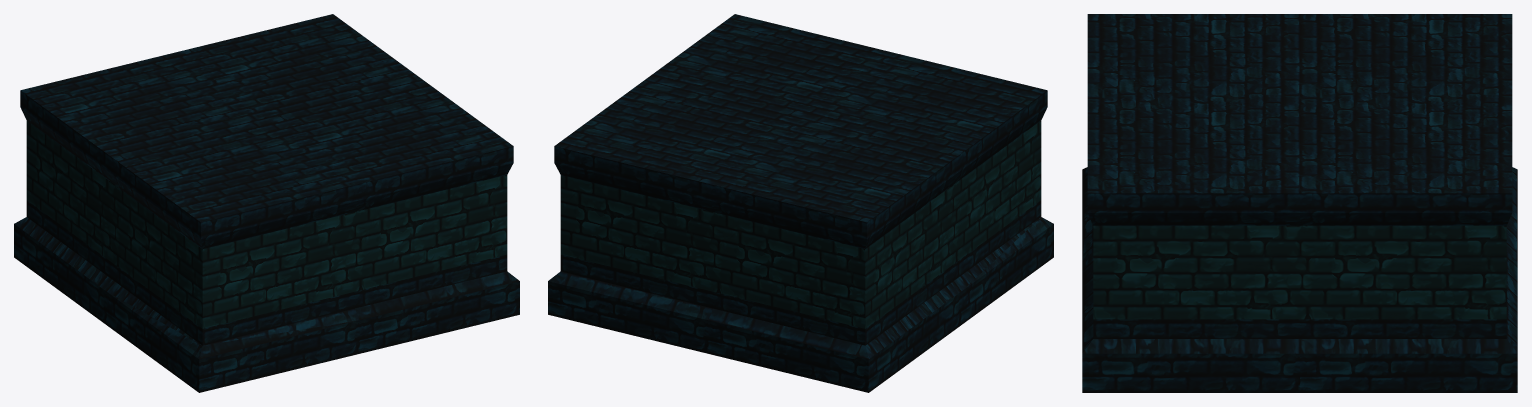
The model's file is dungeon-tile-base.glb.
3 renders of one model, left to right at view 1: azimuth 30°, elevation 25°; view 2: azimuth 150°, elevation 25°; view 3: azimuth 270°, elevation 25°, orthographic. The views are drawn at different scales.
Visible parts, largest first — view 1: mergedBlocks(Clone); view 2: mergedBlocks(Clone); view 3: mergedBlocks(Clone).
Boxes of the visible parts, left/top/right/bottom form: mergedBlocks(Clone): left=14, top=14, right=519, bottom=392; mergedBlocks(Clone): left=548, top=14, right=1053, bottom=392; mergedBlocks(Clone): left=1082, top=14, right=1517, bottom=392.
Bounding box in the file's own units: 2 × 1 × 2.
Materials: 2 (2 with a texture image).
